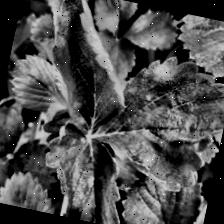Powdery Mildew Leaf: (81, 41, 224, 199), (28, 0, 146, 141), (32, 116, 145, 224)
